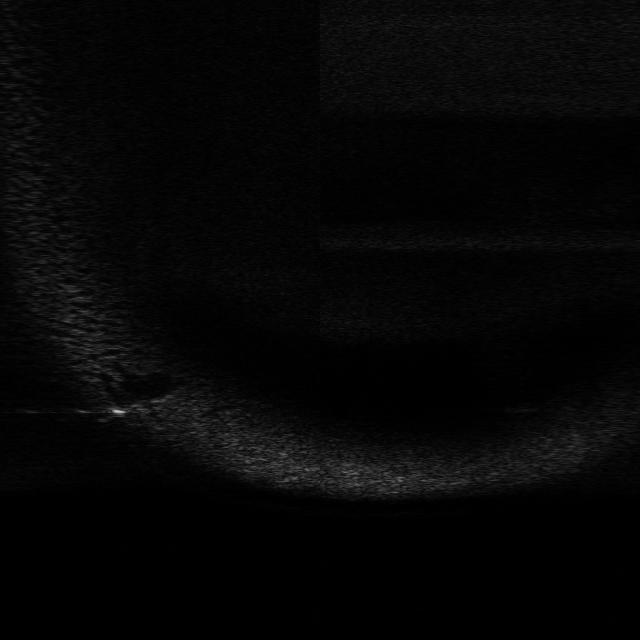plane: (94, 393, 172, 425)
